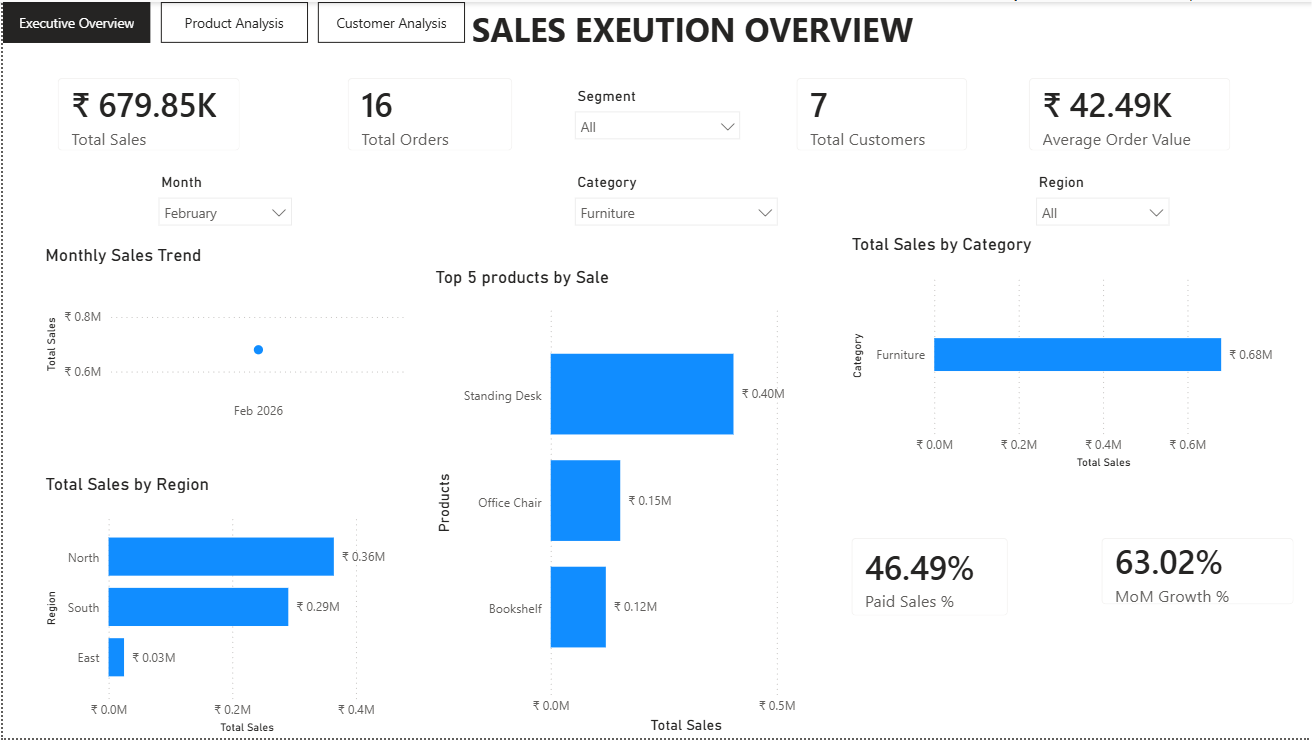

This screenshot's page, from the dashboard's own definition file:
{"tool":"powerbi","page":{"name":"Executive Overview","canvas":[1280,720],"ordinal":1},"visuals":[{"type":"textbox","box":[453.7,0,463.5,57.5],"z":0},{"type":"cardVisual","fields":{"Data":["FactSales.Total Orders"]},"box":[320.4,57.5,195.7,105.2],"z":1000},{"type":"cardVisual","fields":{"Data":["FactSales.Total Customers"]},"box":[759.4,57.5,201.8,105.2],"z":2000},{"type":"cardVisual","fields":{"Data":["FactSales.Average Order Value"]},"box":[986.8,57.5,231.1,105.2],"z":3000},{"type":"slicer","fields":{"Values":["DimDate.Month"]},"box":[141.8,162.6,150.4,74.6],"z":4000},{"type":"slicer","fields":{"Values":["DimCustomer.Region"]},"box":[1000.3,162.6,150.4,74.6],"z":5000},{"type":"slicer","fields":{"Values":["DimProduct.Category"]},"box":[549.1,162.6,218.9,74.6],"z":6000},{"type":"lineChart","title":"Monthly Sales Trend","fields":{"Y":["FactSales.Total Sales"],"Category":["DimDate.Year_Month"]},"box":[36.7,237.2,362,190.8],"z":7000},{"type":"clusteredBarChart","fields":{"Category":["DimProduct.Category"],"Y":["FactSales.Total Sales"]},"box":[825.4,226.2,441.4,234.8],"z":8000},{"type":"barChart","title":"Top 5 products by Sale","fields":{"Category":["DimProduct.Product_Name"],"Y":["FactSales.Total Sales"]},"box":[418.2,259.2,407.2,461],"z":9000},{"type":"barChart","fields":{"Category":["DimCustomer.Region"],"Y":["FactSales.Total Sales"]},"box":[36.7,461,362,259.2],"z":10000},{"type":"cardVisual","fields":{"Data":["FactSales.Paid Sales %"]},"box":[813.2,507.5,187.1,110.1],"z":11000},{"type":"cardVisual","fields":{"Data":["FactSales.MoM Growth %"]},"box":[1057.8,507.5,222.6,99],"z":12000},{"type":"cardVisual","fields":{"Data":["FactSales.Total Sales"]},"box":[36.7,57.5,212.8,105.2],"z":13000},{"type":"pageNavigator","box":[0,0,453.7,40.4],"z":14000},{"type":"slicer","fields":{"Values":["DimCustomer.Segment"]},"box":[549.1,78.3,182.2,89.3],"z":15000}]}

Visuals, with their boxes in screenshot pixels (x1, y1, x2, y2), scaled from the page's 1280x720 canvas onto the 1312x741 screenshot:
textbox: select_region(465, 0, 940, 59)
cardVisual - FactSales.Total Orders: select_region(328, 59, 529, 167)
cardVisual - FactSales.Total Customers: select_region(778, 59, 985, 167)
cardVisual - FactSales.Average Order Value: select_region(1011, 59, 1248, 167)
slicer - DimDate.Month: select_region(145, 167, 300, 244)
slicer - DimCustomer.Region: select_region(1025, 167, 1179, 244)
slicer - DimProduct.Category: select_region(563, 167, 787, 244)
"Monthly Sales Trend" lineChart: select_region(38, 244, 409, 440)
clusteredBarChart - DimProduct.Category x FactSales.Total Sales: select_region(846, 233, 1298, 474)
"Top 5 products by Sale" barChart: select_region(429, 267, 846, 740)
barChart - DimCustomer.Region x FactSales.Total Sales: select_region(38, 474, 409, 740)
cardVisual - FactSales.Paid Sales %: select_region(834, 522, 1025, 636)
cardVisual - FactSales.MoM Growth %: select_region(1084, 522, 1311, 624)
cardVisual - FactSales.Total Sales: select_region(38, 59, 256, 167)
pageNavigator: select_region(0, 0, 465, 42)
slicer - DimCustomer.Segment: select_region(563, 81, 750, 172)
